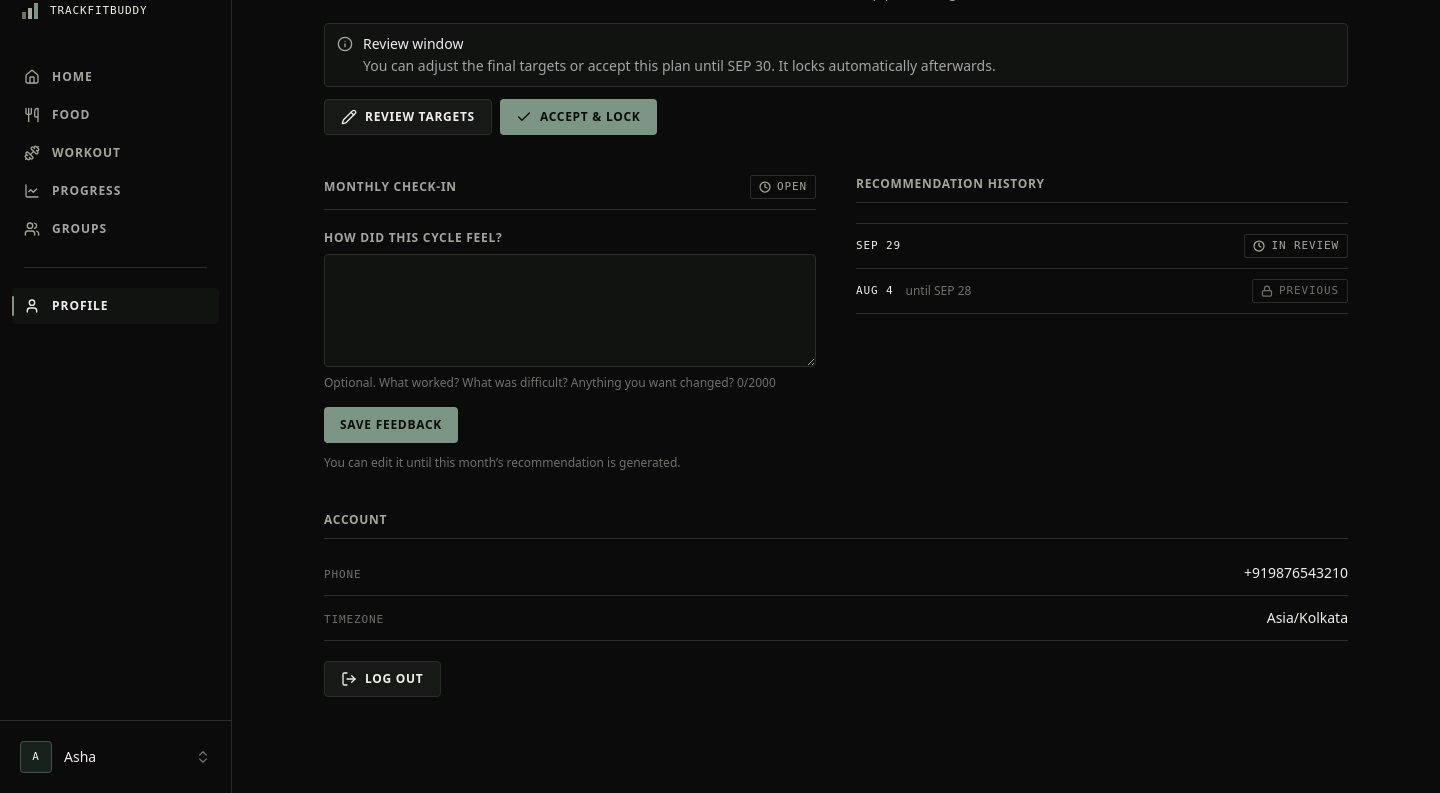
Test: Current plan › monthly check-in and history › an empty check-in is not saved
(page scrolled)
Click the button "Save feedback": (391, 425) [324,407,458,443]
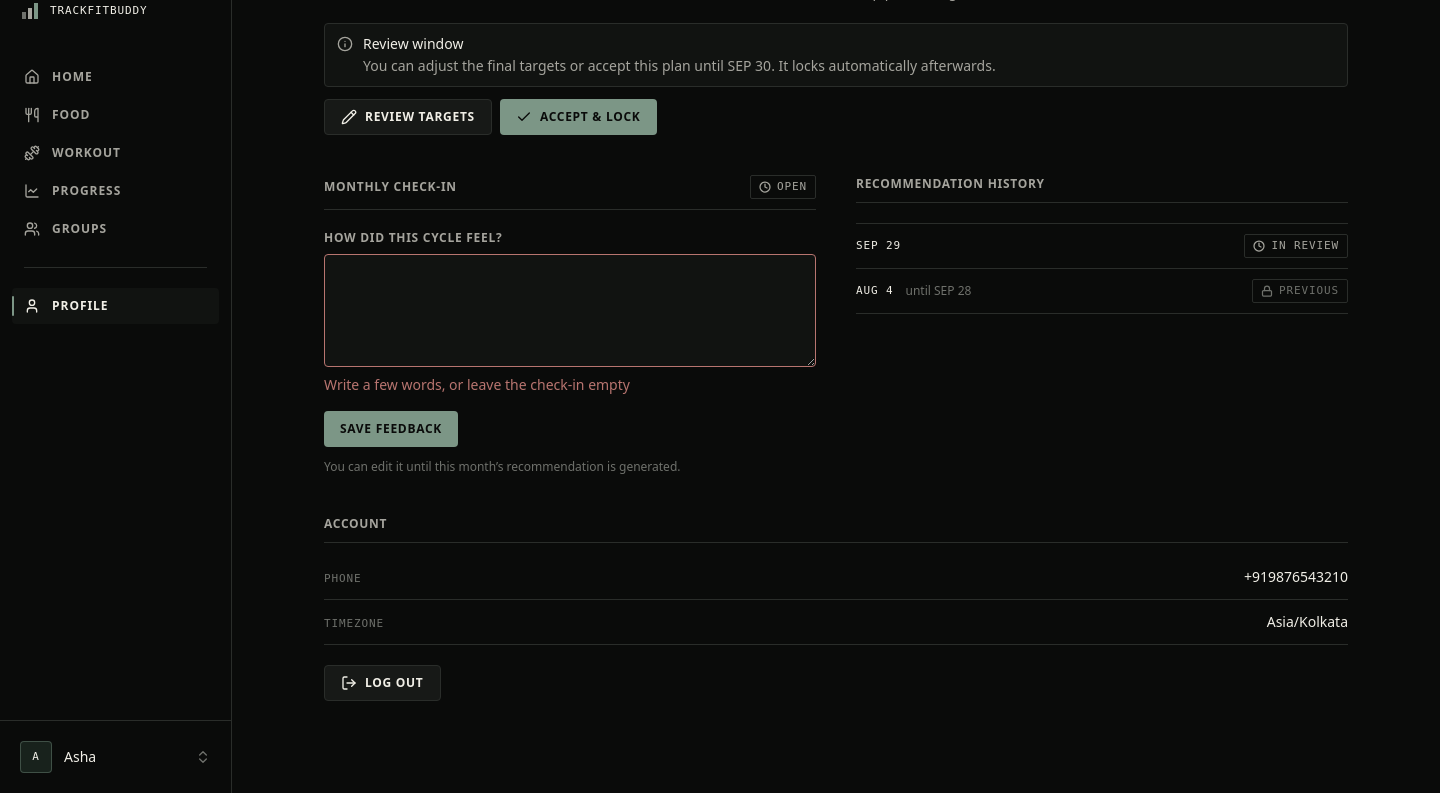
Result: the text "Write a few words, or leave the check-in empty" is shown at [324,375,630,394]
